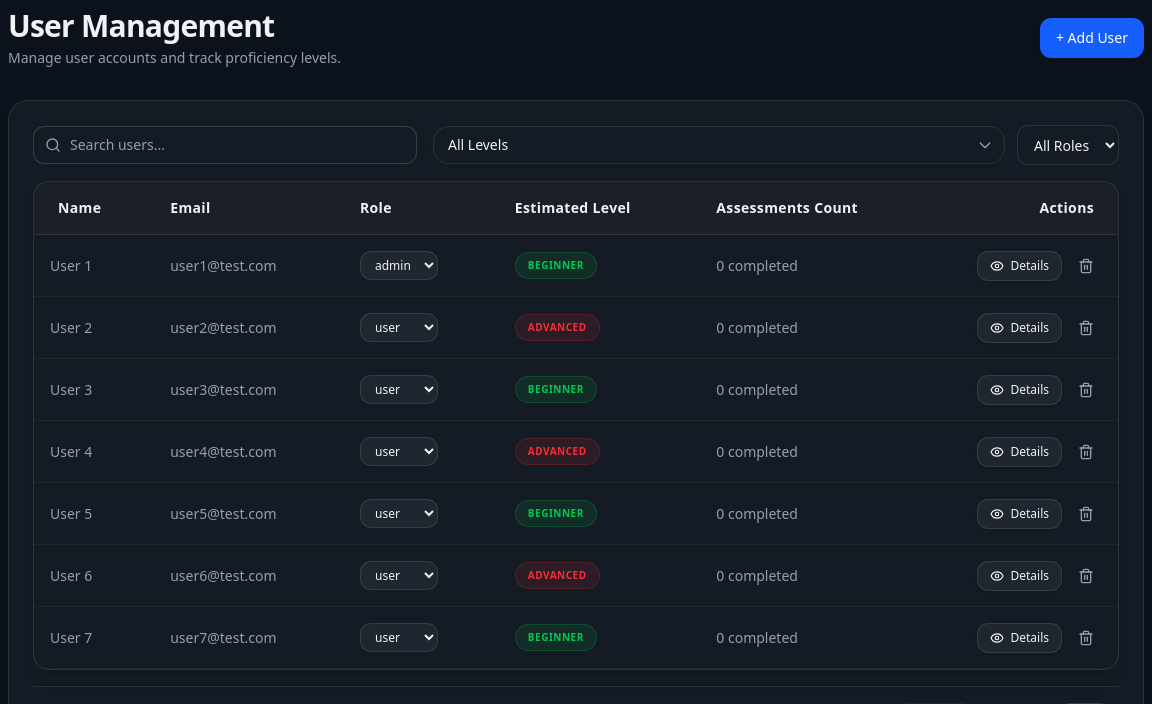
/manageUsers page › filters by search, level and role
The image size is (1152, 704).
Expected: the text "user1@test.com" is shown, [146, 234, 336, 296]
Step 1. Type "user2@" into the field with placeholder "Search users..." → [225, 145], box [33, 126, 417, 164]
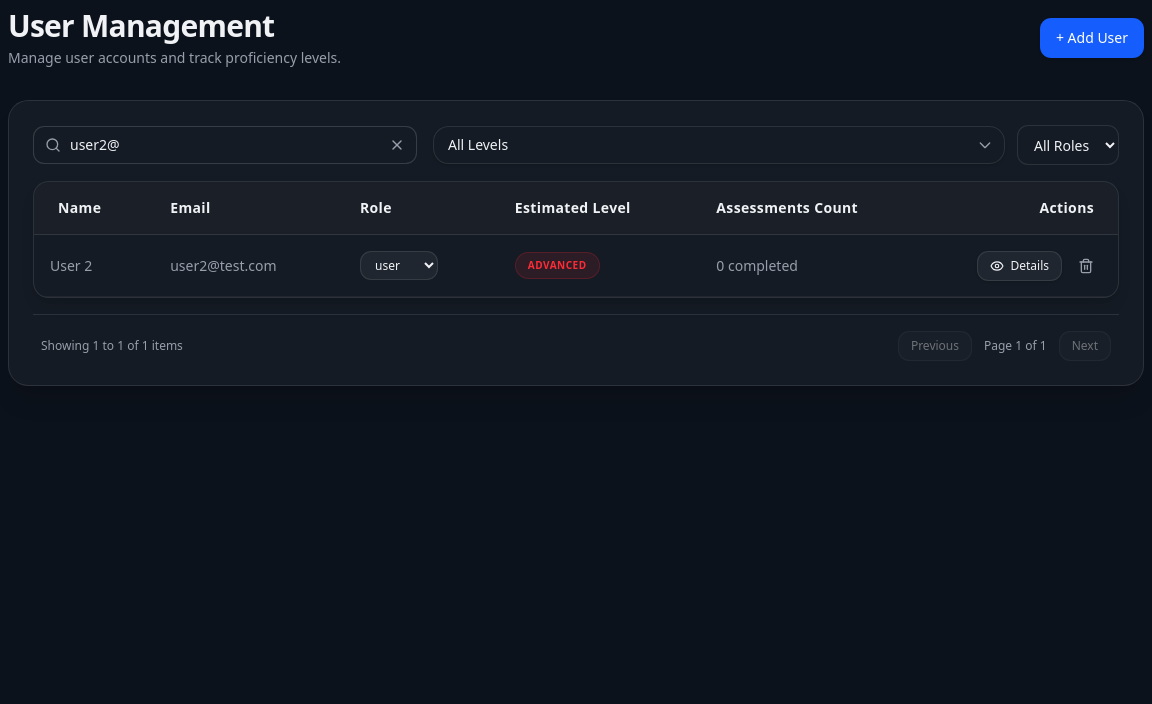
Expected: the text "user2@test.com" is shown, [146, 234, 336, 296]
Expected: the text "user1@test.com" is gone
Step 2. Clear the field with placeholder "Search users..." → [225, 145], box [33, 126, 417, 164]
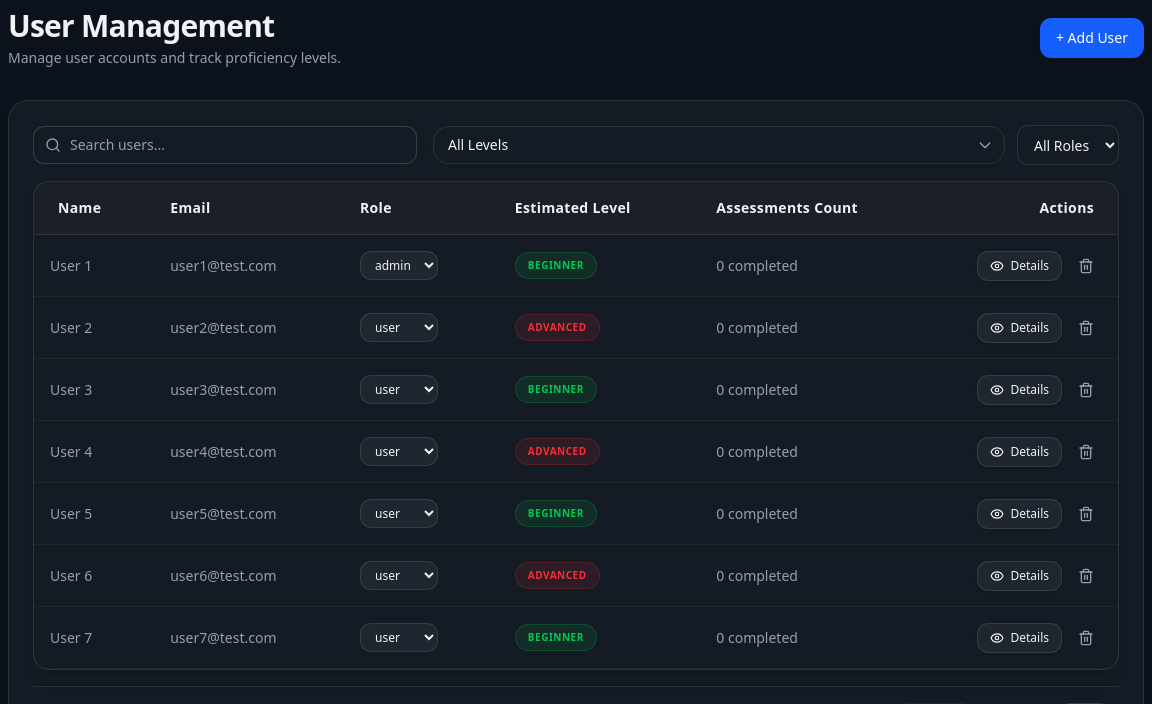
Step 3. Select "Advanced" in the 1st dropdown → [719, 145], box [433, 126, 1005, 164]
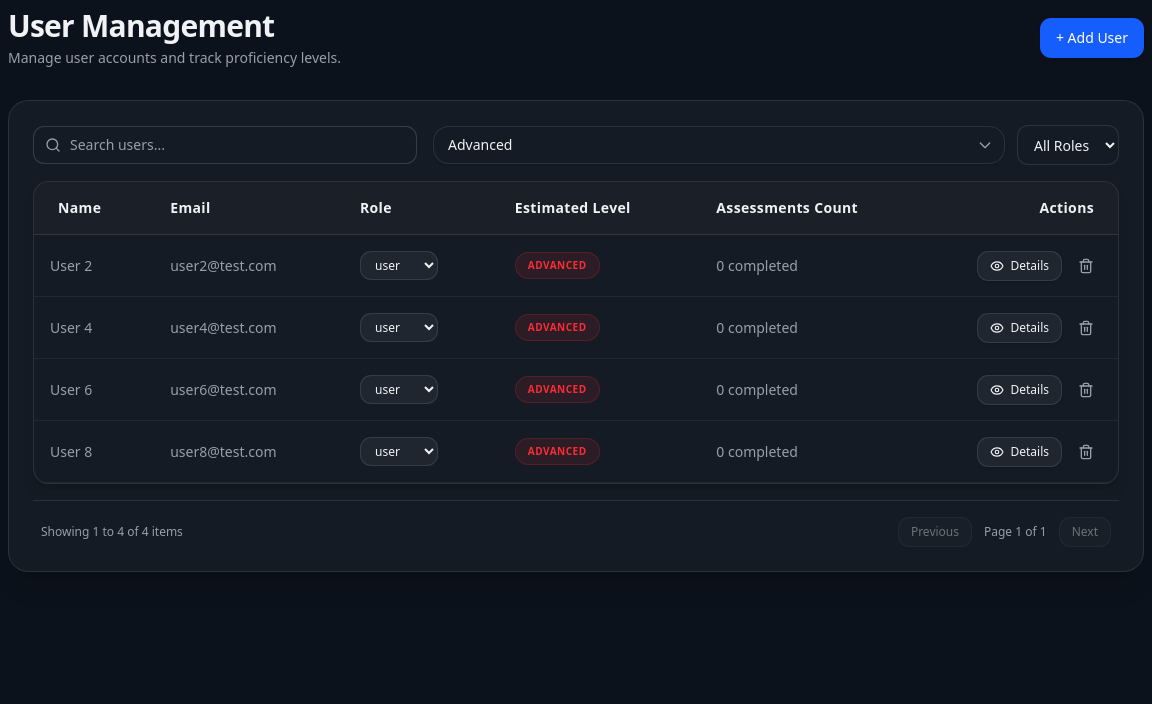
Expected: the text "user2@test.com" is shown, [146, 234, 336, 296]
Expected: the text "user1@test.com" is gone
Step 4. Select "All Levels" in the 1st dropdown → [719, 145], box [433, 126, 1005, 164]
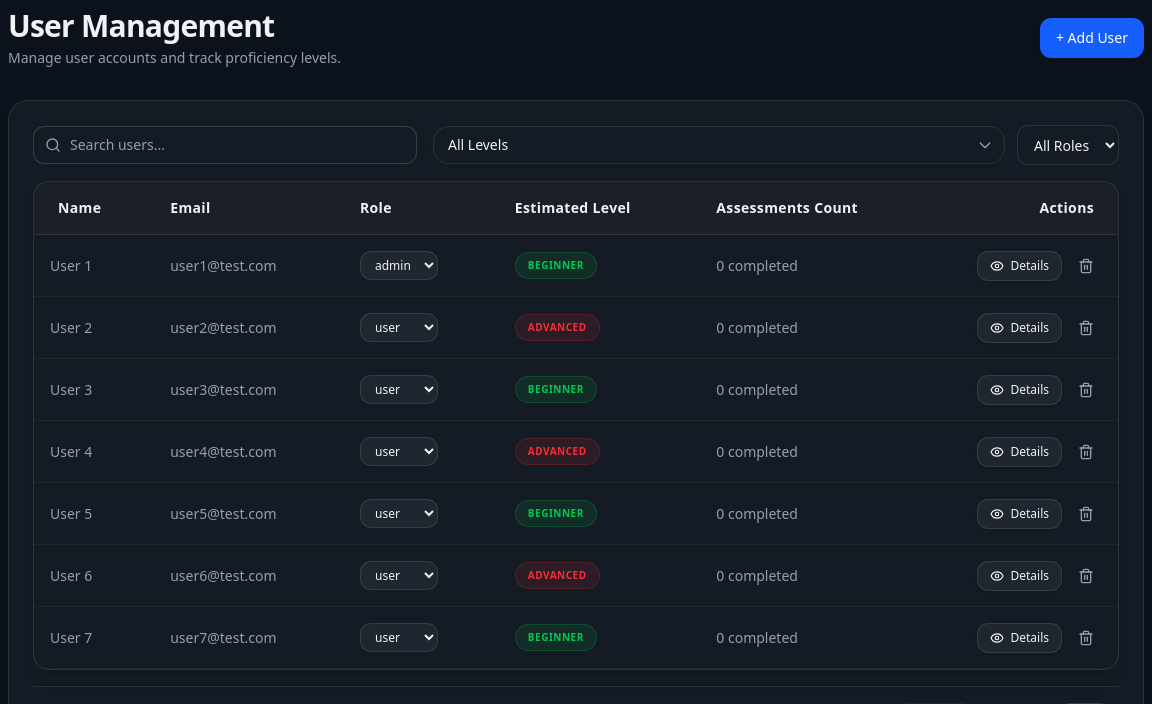
Step 5. Select "Admins" in the 2nd dropdown → [1068, 145], box [1017, 125, 1119, 165]
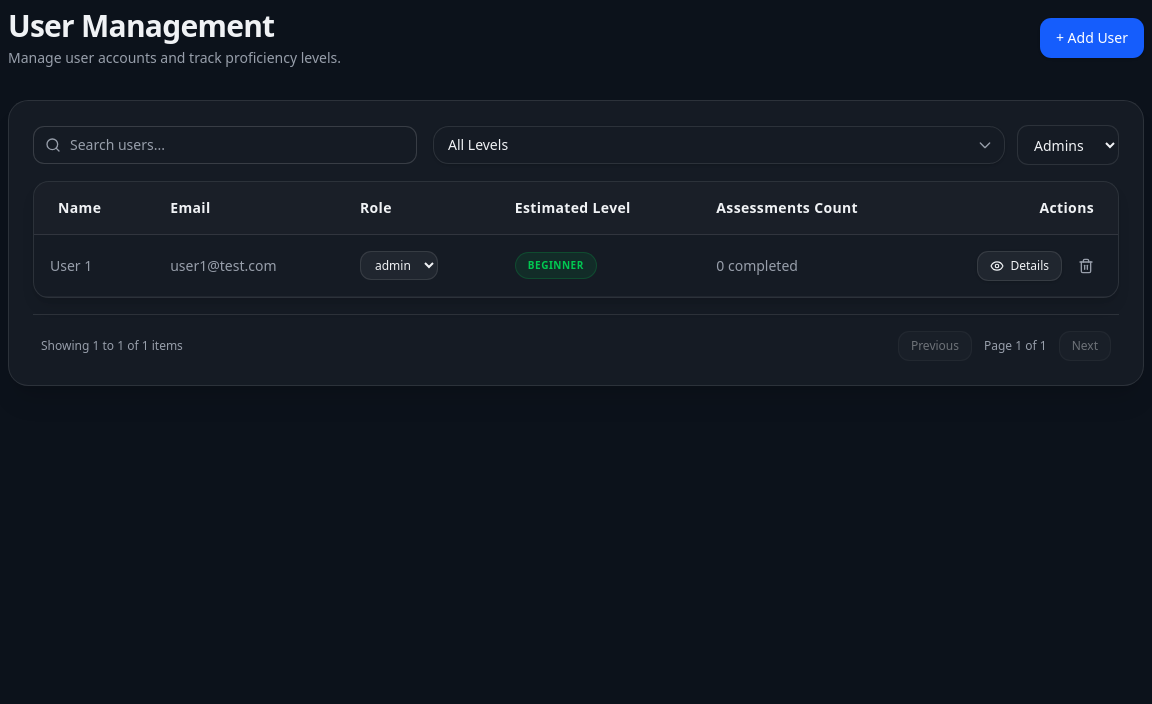
Expected: the text "user1@test.com" is shown, [146, 234, 336, 296]
Expected: the text "user2@test.com" is gone
